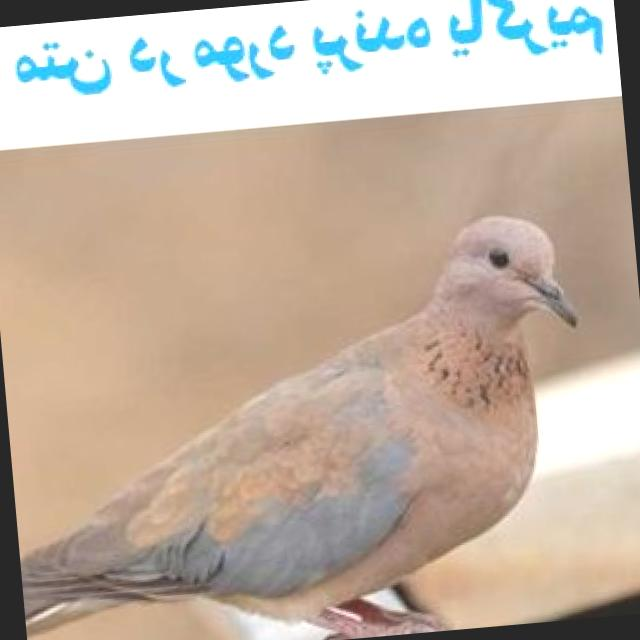bird: (0, 204, 615, 640)
